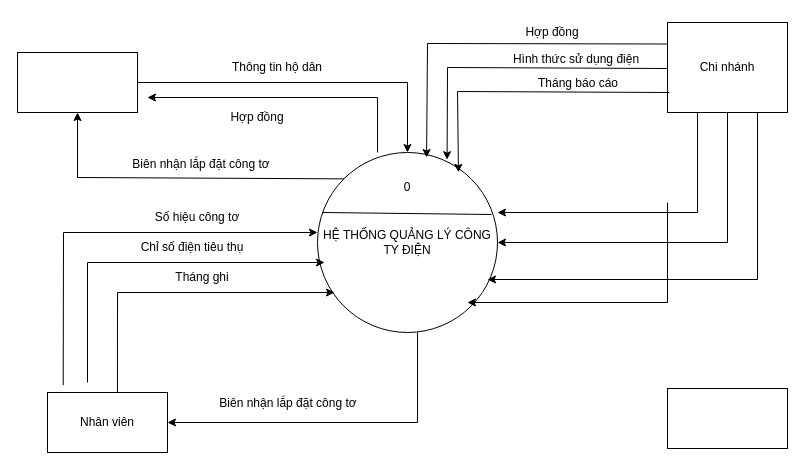
Some shapes in this 805 by 470 pixel diagram are drawn without their labels. The box of each missing label's shape, as (x1, y1, x2, y2) in pixels:
Hộ dân: (16, 52, 138, 112)
Sở điện lực: (666, 388, 788, 448)
